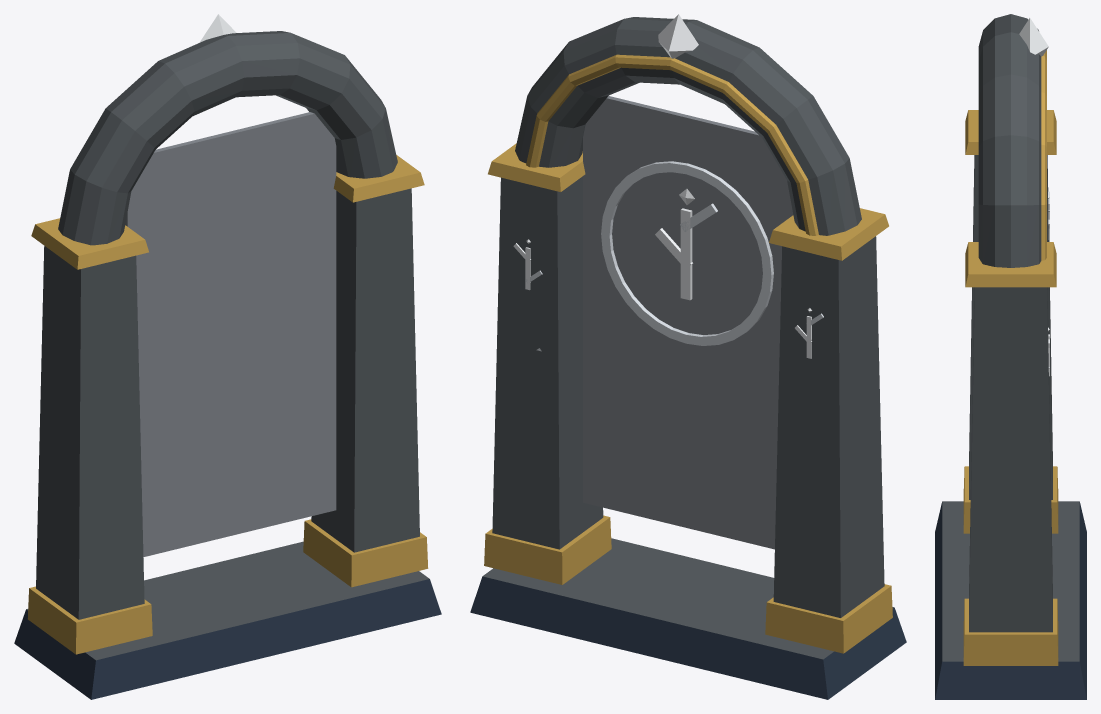
Rendered from GuardianPortal.obj.
3 views of the same model, side by side, from view 1: azimuth 30°, elevation 25°; view 2: azimuth 150°, elevation 25°; view 3: azimuth 270°, elevation 25° (orthographic). The views are drawn at different scales.
Size of the model in its own units: 4.22 by 6.96 by 1.6.
